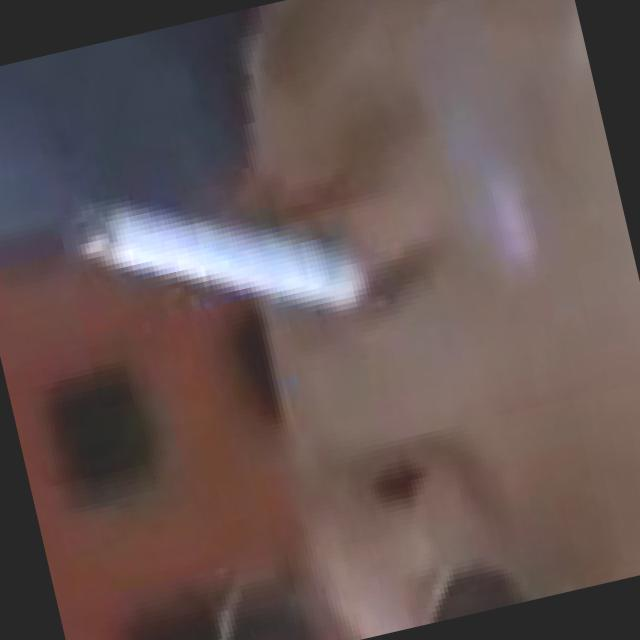smoke: (60, 150, 356, 370)
